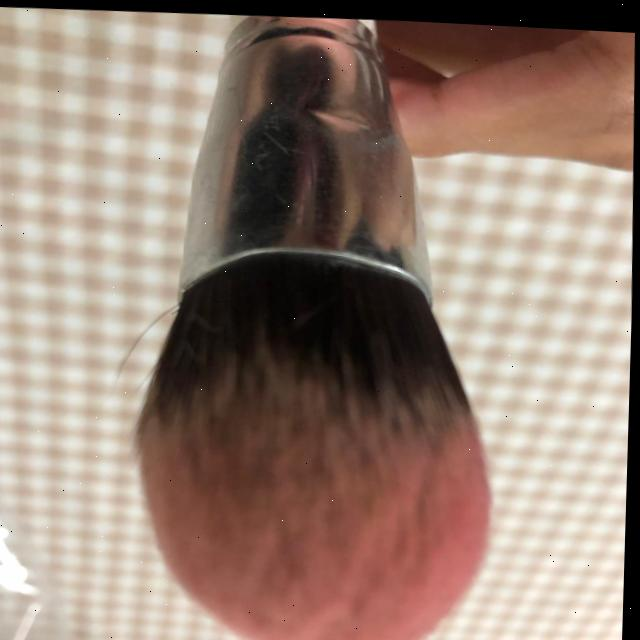brush: (112, 5, 516, 640)
